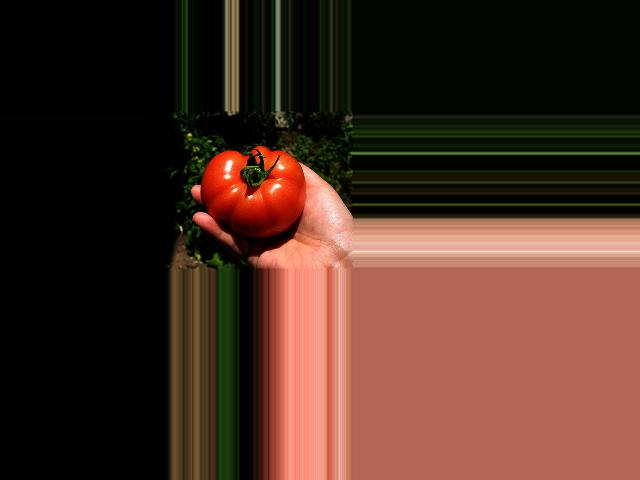tomato: (200, 146, 304, 237)
